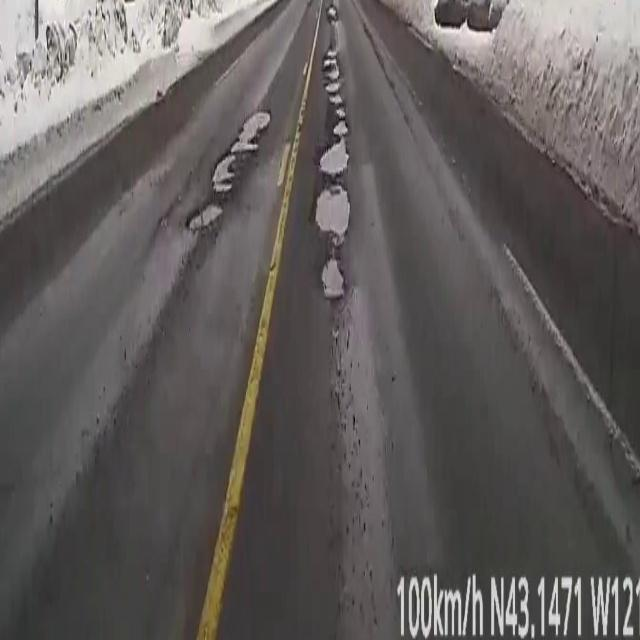pothole: (188, 110, 270, 234), (314, 45, 350, 300), (328, 6, 338, 18)
